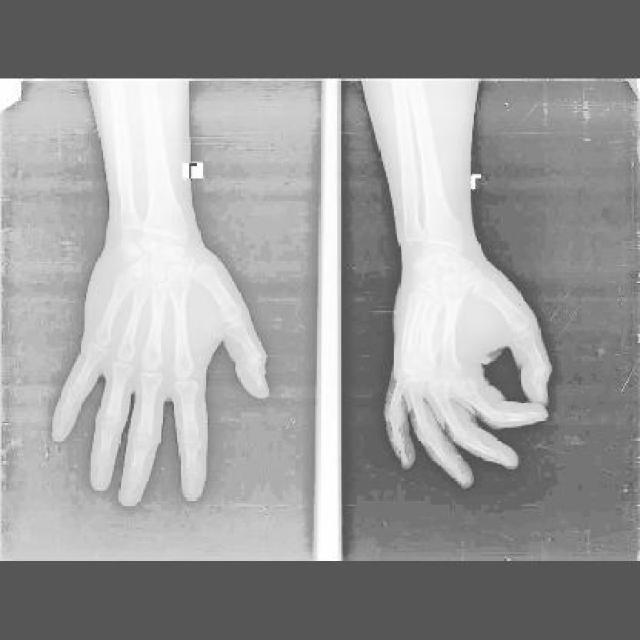Fracture: (145, 291, 170, 334), (419, 299, 442, 344)
